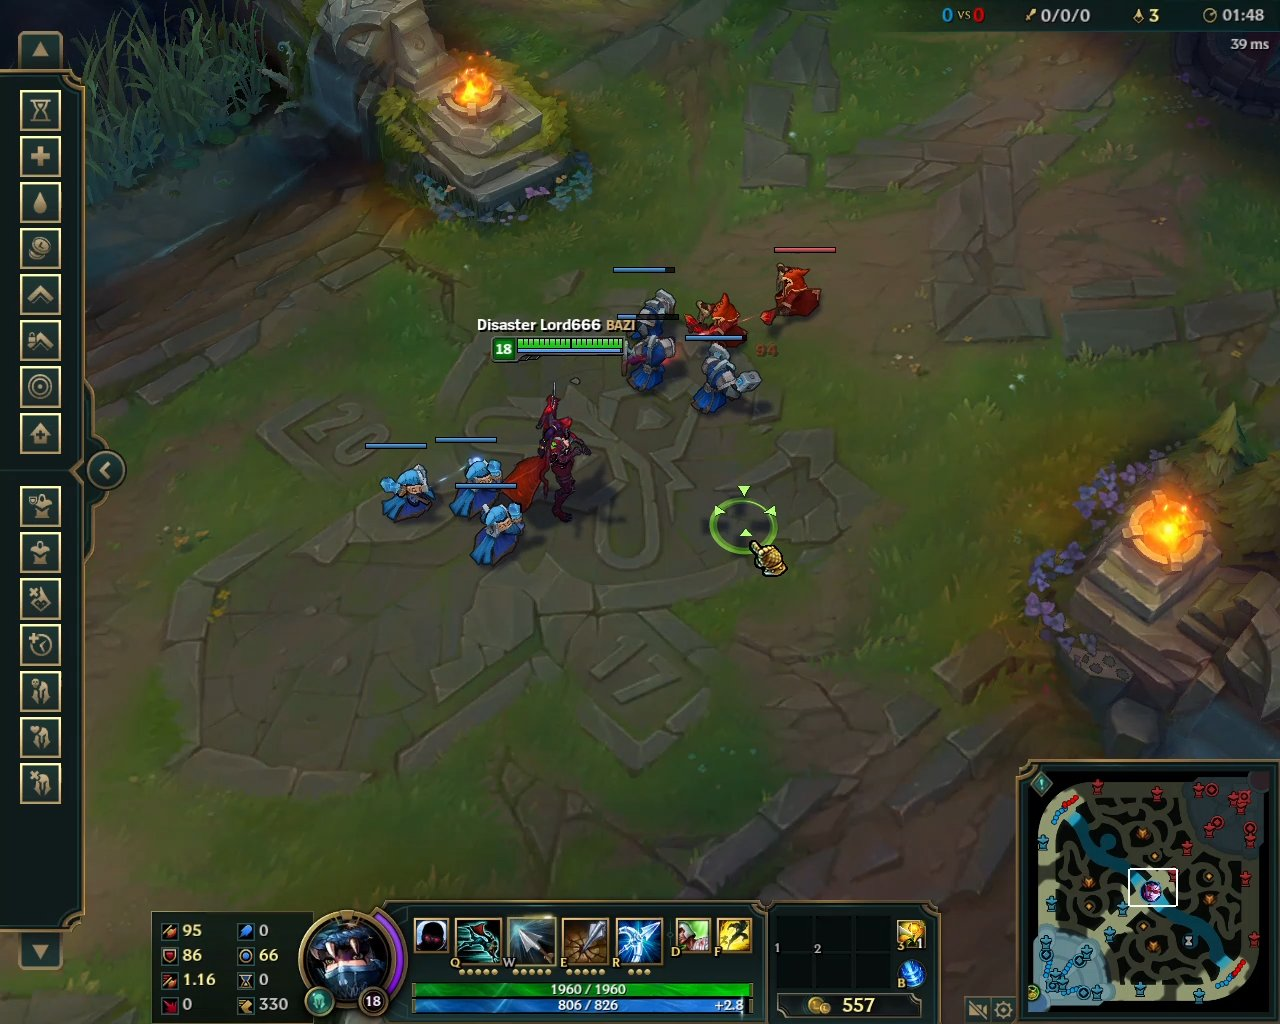EnemyMinion: (758, 246, 841, 335)
Vayne: (498, 375, 592, 523)
